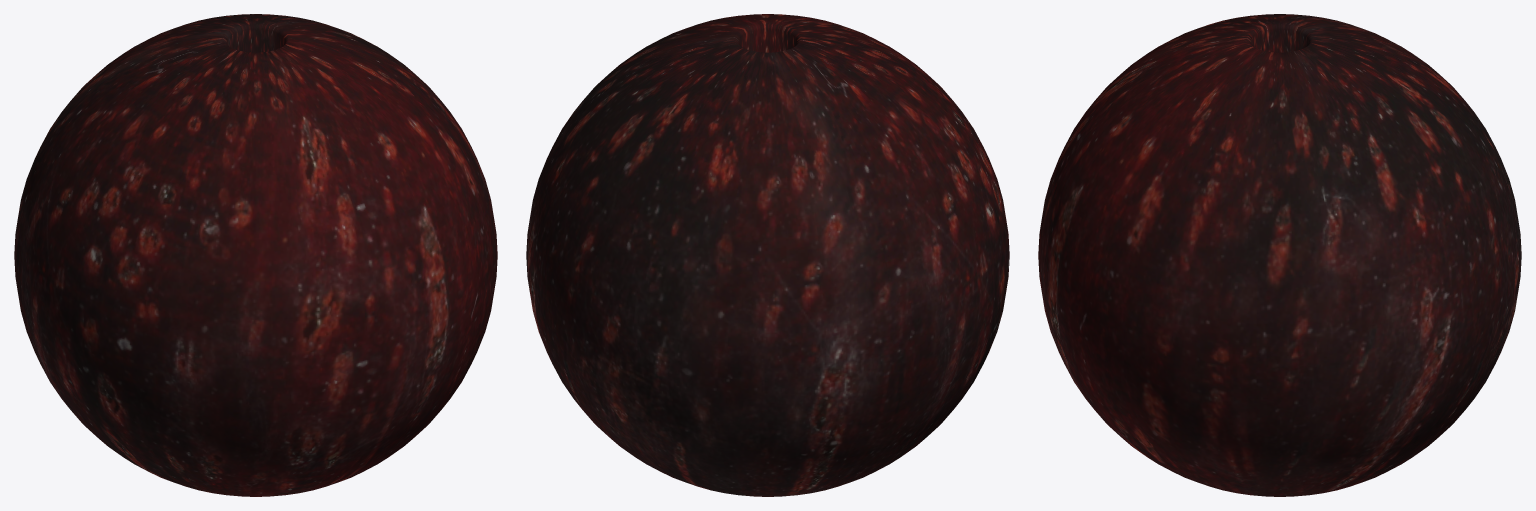
3 views of the same model, side by side, from view 1: azimuth 30°, elevation 25°; view 2: azimuth 150°, elevation 25°; view 3: azimuth 270°, elevation 25° (orthographic).
Parts seen in each view (by area): view 1: Sphere.001; view 2: Sphere.001; view 3: Sphere.001.
Boxes of the visible parts, x1=… form: Sphere.001: x1=14, y1=14, x2=497, y2=496; Sphere.001: x1=526, y1=14, x2=1009, y2=496; Sphere.001: x1=1038, y1=14, x2=1521, y2=496.
Bounding box in the file's own units: 1 × 0.9894 × 1.
Materials: 1 (1 with a texture image).
